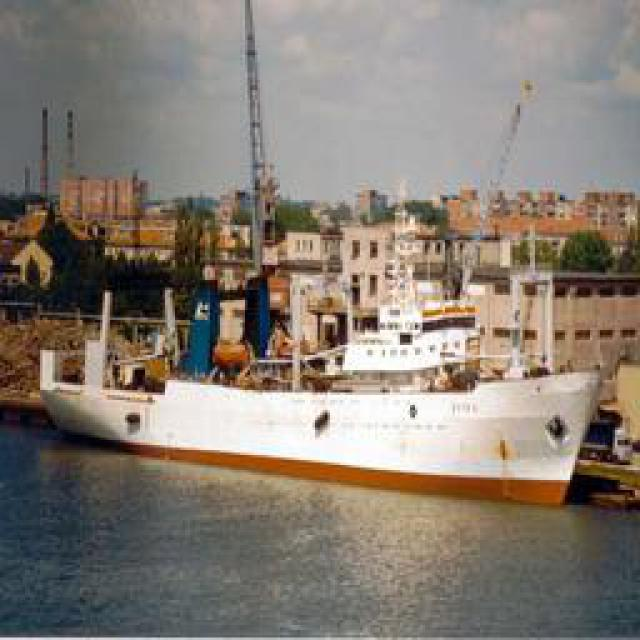Ship: (32, 292, 610, 502)
